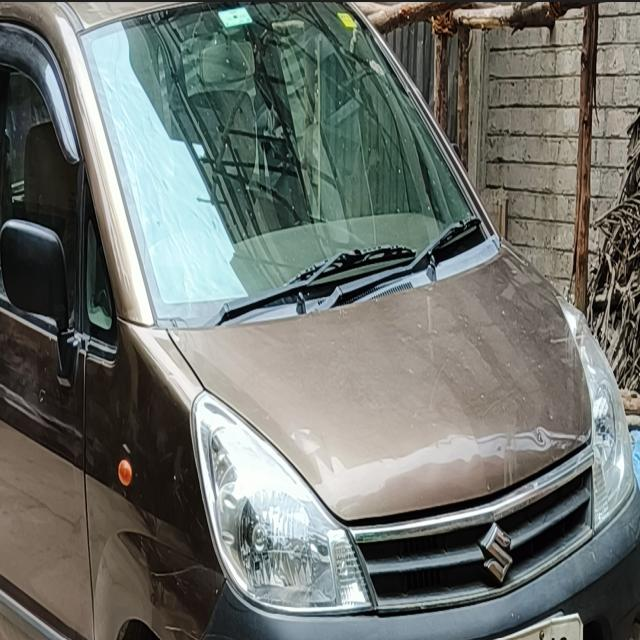scratch: (145, 556, 219, 640)
